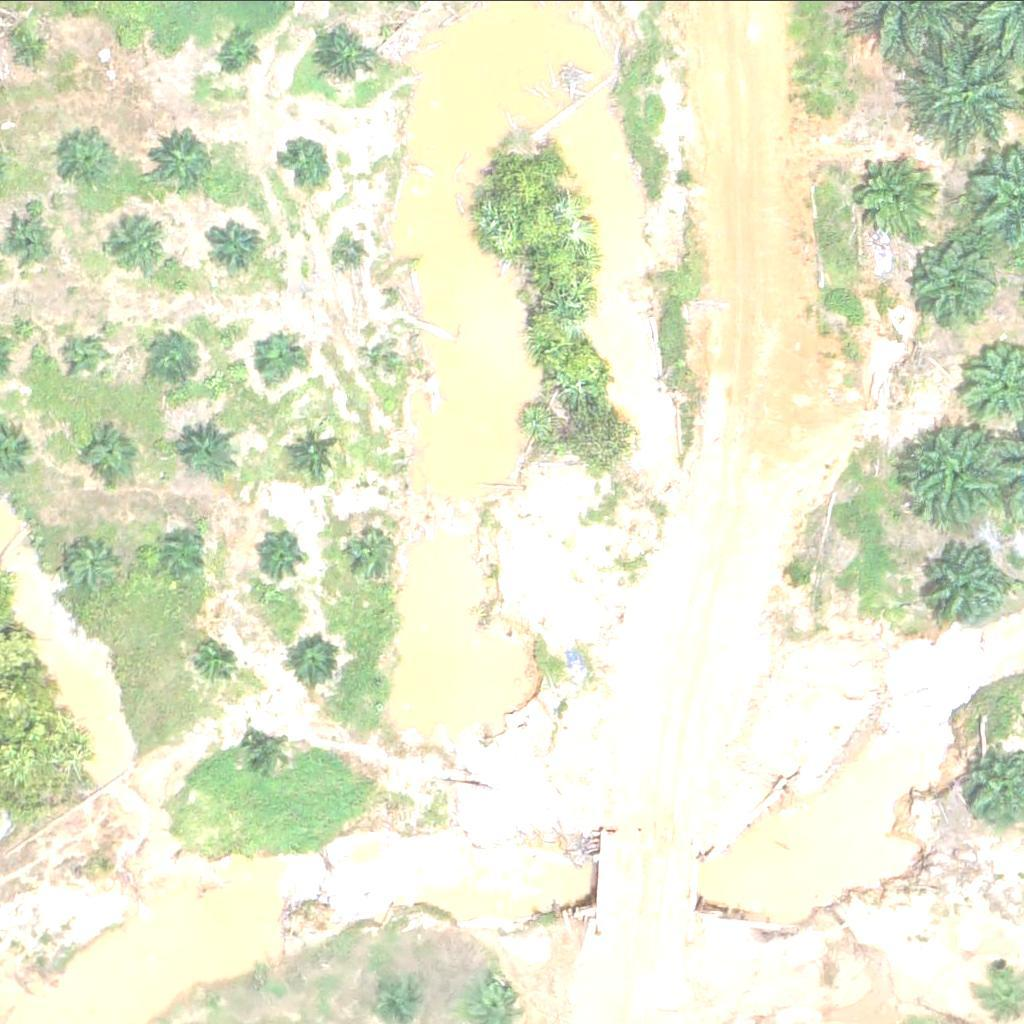Kelapa_Sawit: (901, 424, 1002, 524), (911, 233, 999, 321), (926, 541, 1014, 629), (854, 154, 942, 241), (181, 419, 244, 482), (147, 129, 210, 191), (110, 211, 173, 273), (57, 132, 120, 194), (312, 26, 375, 88), (248, 334, 299, 384), (149, 330, 200, 380), (86, 432, 137, 482), (71, 538, 122, 588), (154, 527, 205, 577), (252, 527, 303, 577), (291, 427, 342, 477), (214, 219, 264, 269), (281, 138, 331, 188), (292, 636, 342, 686), (370, 967, 420, 1017), (218, 27, 268, 77), (1, 19, 51, 69), (353, 525, 403, 575), (188, 633, 238, 683), (244, 724, 294, 774), (65, 337, 103, 374), (334, 238, 359, 263), (111, 28, 136, 53), (368, 333, 393, 358)
